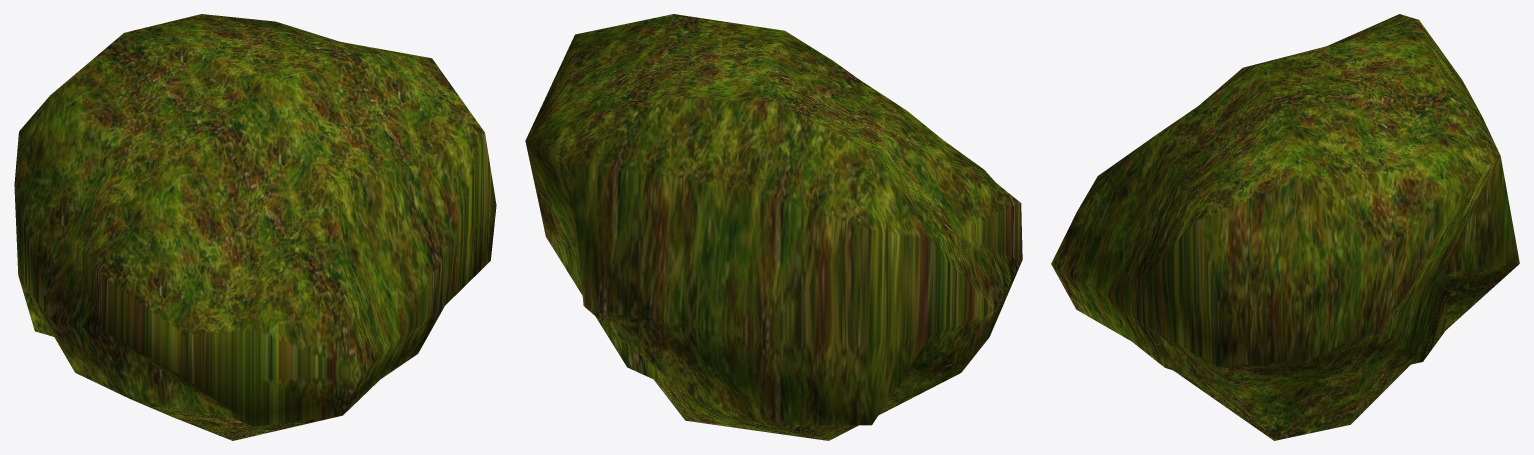
Rendered from TROLLHOLE02_BOX331.fbx.
3 renders of one model, left to right at view 1: azimuth 30°, elevation 25°; view 2: azimuth 150°, elevation 25°; view 3: azimuth 270°, elevation 25°, orthographic. The views are drawn at different scales.
Visible parts, largest first — view 1: TROLLHOLE02_BOX331; view 2: TROLLHOLE02_BOX331; view 3: TROLLHOLE02_BOX331.
Part boxes in pixels (box(x1,y1,x2,y2)): TROLLHOLE02_BOX331: box(14, 14, 496, 440); TROLLHOLE02_BOX331: box(525, 14, 1022, 440); TROLLHOLE02_BOX331: box(1051, 14, 1519, 440).
Bounding box in the file's own units: 78284 × 62302 × 76249.
Materials: 1 (1 with a texture image).
